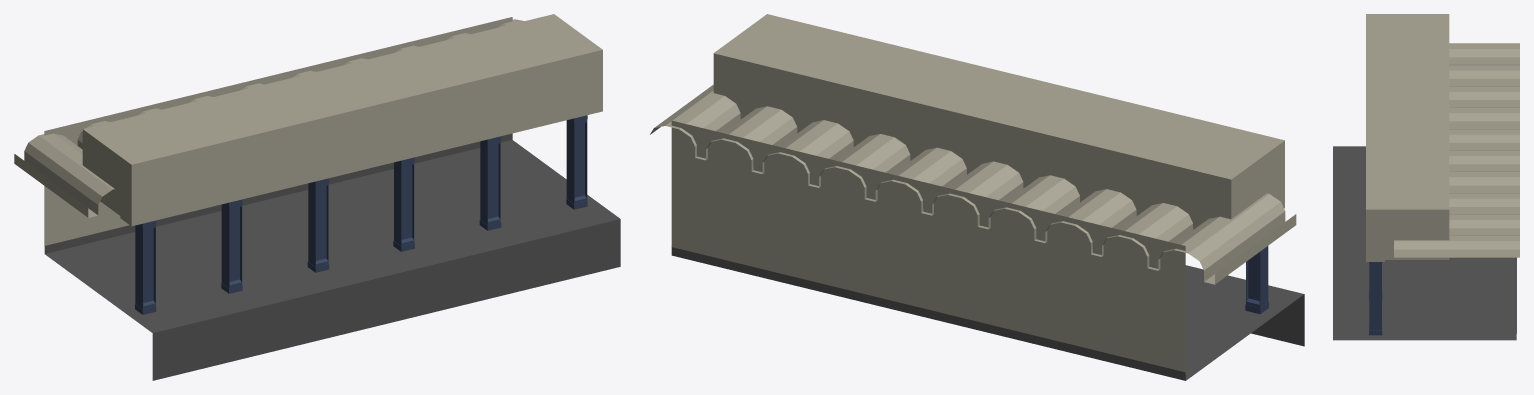
Rendered from Subway_Station.fbx.
3 renders of one model, left to right at view 1: azimuth 30°, elevation 25°; view 2: azimuth 150°, elevation 25°; view 3: azimuth 270°, elevation 25°, orthographic. The views are drawn at different scales.
Visible parts, largest first — view 1: BGD_pCube35; view 2: BGD_pCube35; view 3: BGD_pCube35.
Boxes of the visible parts, x1,y1,x2,y2 form: BGD_pCube35: (14, 14, 620, 380); BGD_pCube35: (650, 14, 1304, 380); BGD_pCube35: (1333, 14, 1519, 340).
Bounding box in the file's own units: 599 × 225 × 221.
